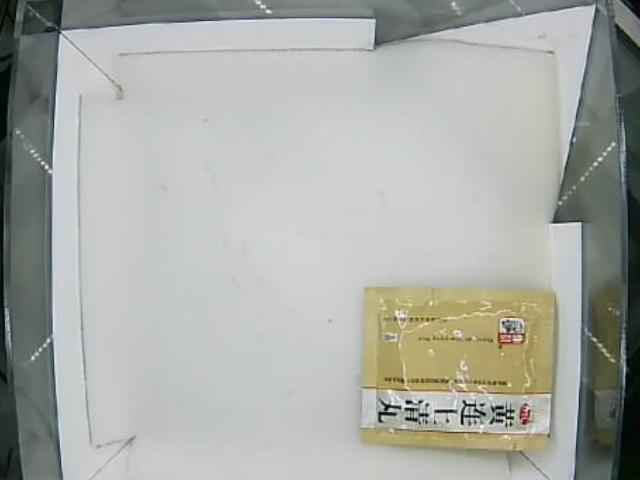Medicine: (362, 285, 556, 450)
